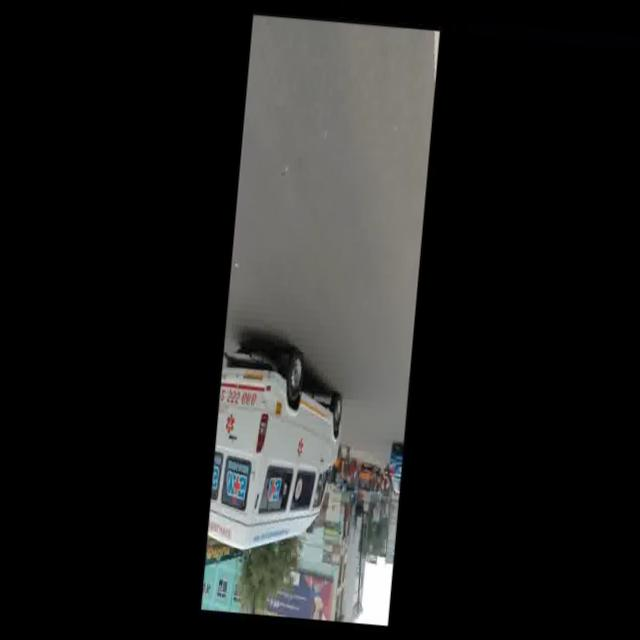ambulance: (202, 340, 359, 595)
